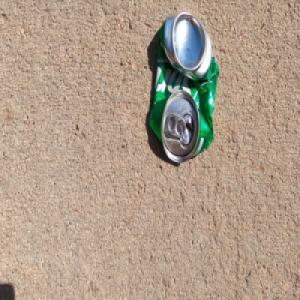SodaCan: (148, 10, 219, 165)
